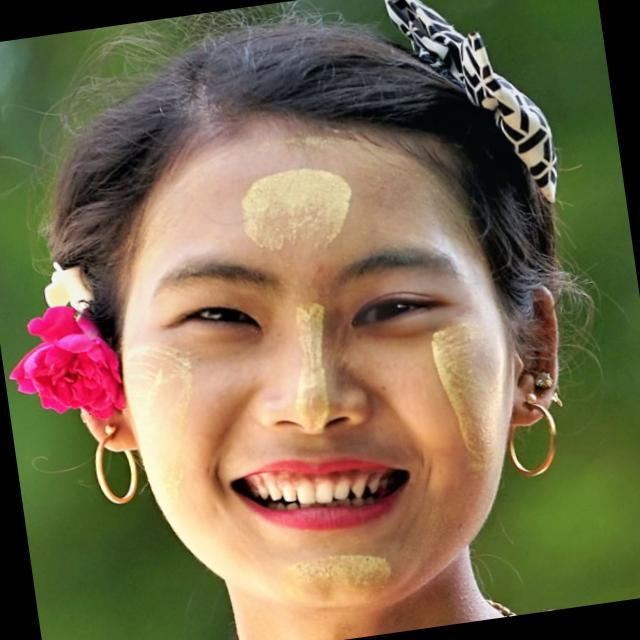face: (24, 11, 623, 640)
